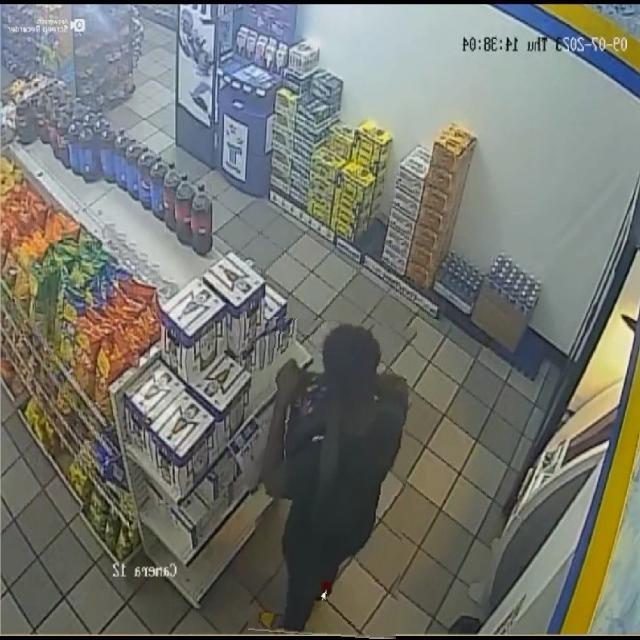Shoplifting: (253, 320, 411, 638)
